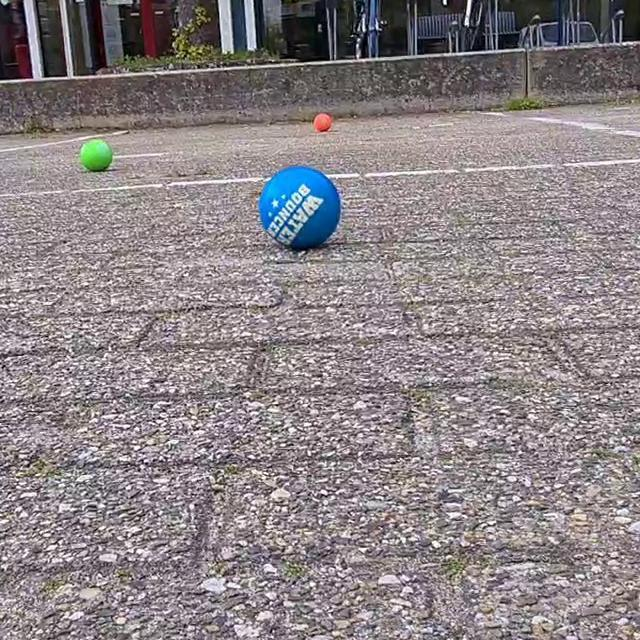ball: (78, 137, 112, 174), (312, 109, 334, 136)
